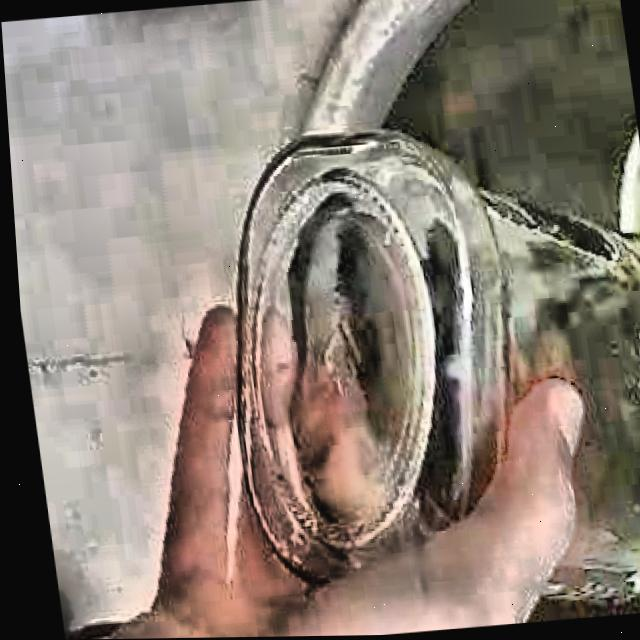glass: (231, 132, 640, 602)
